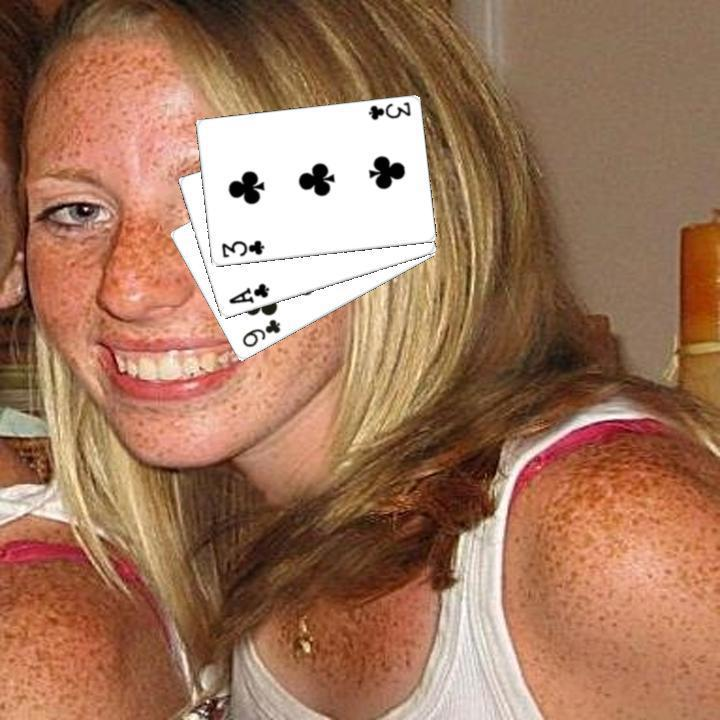3: (217, 236, 266, 260), (363, 98, 412, 122)
9: (238, 315, 283, 350)
A: (224, 279, 271, 306)
